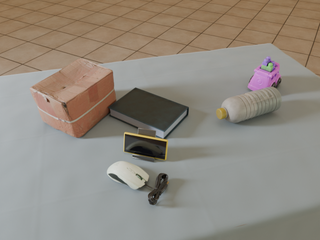book: (108, 88, 189, 139)
bottle: (216, 87, 282, 123)
box: (30, 58, 116, 138)
mouse: (107, 161, 149, 189)
phone: (124, 132, 168, 160)
toy_car: (248, 57, 281, 91)
